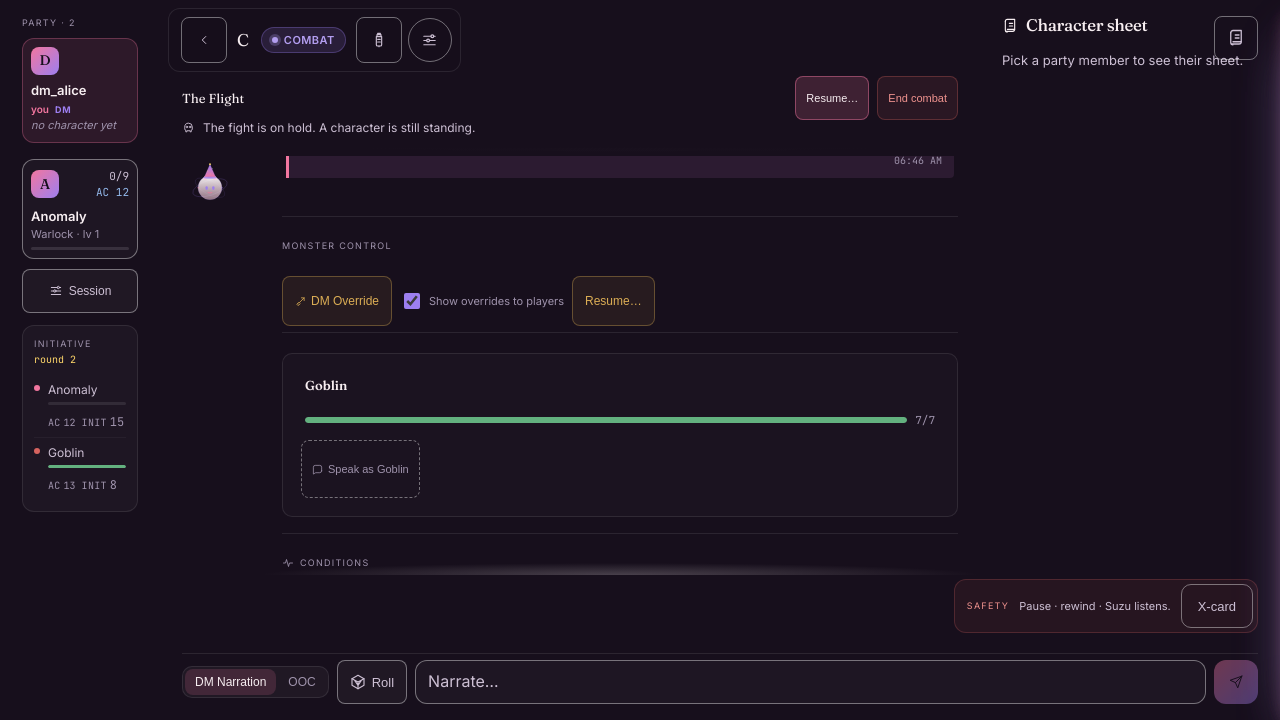
Test case: CP-4 (D05): a standing character's default HP is clamped to what can be sent › standing at 0 HP (dying): the default is 1, never 0 (the engine refuses 0)
The width and height of the screenshot is (1280, 720).
(page scrolled)
Expected: the text "The fight is on hold. A character is still standing." is shown, [182,120,475,135]
Click the button "Resume…" in the row of "The Flight": (832, 98) [795,76,869,120]
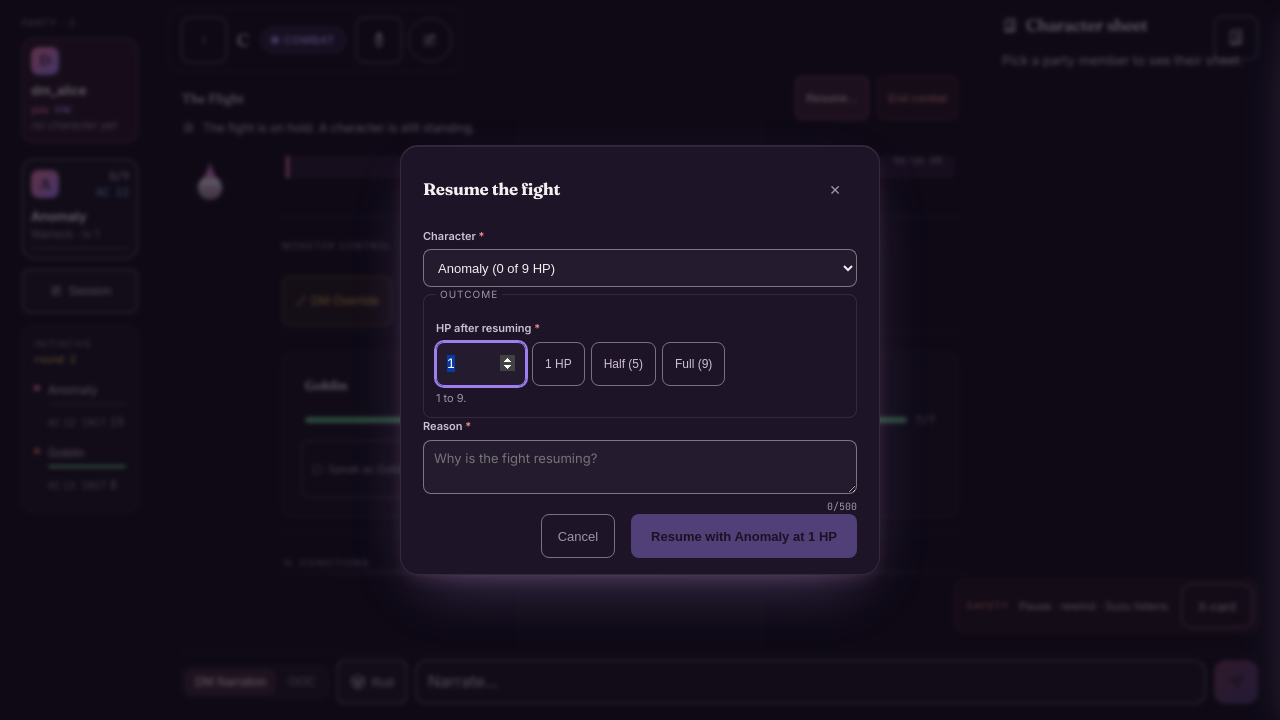
Now the number field labelled "HP after resuming *" holds "1", box [436,342,526,386]
